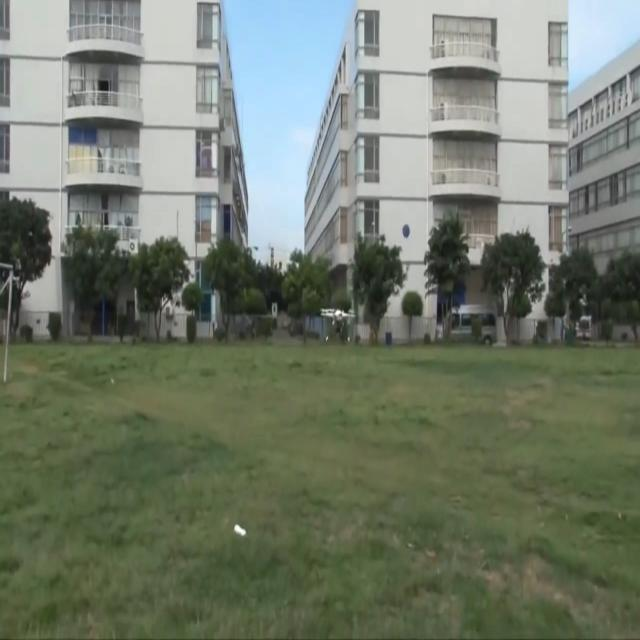drone: (321, 301, 360, 345)
